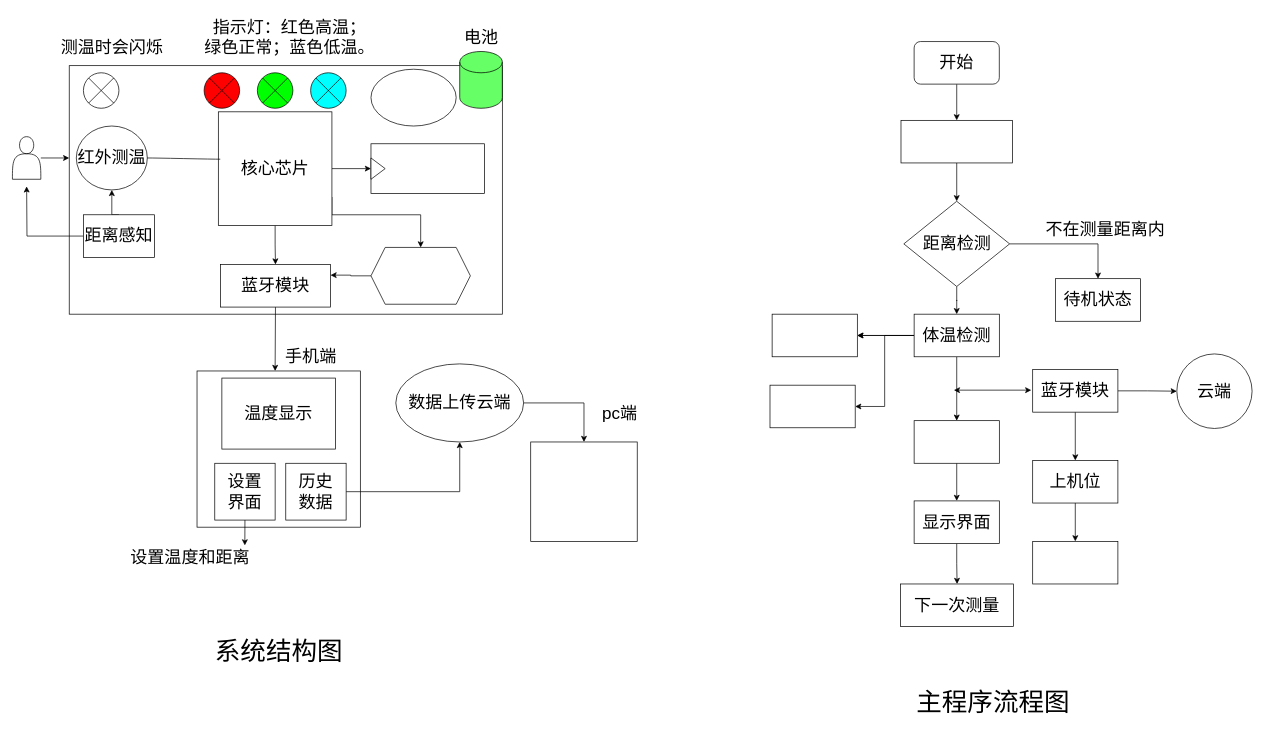
The diagram is 1265 pixels wide and 733 high, and some of its shapes have lost their labels. The shapes that lost their labels are listed below. From the top down, each one's box as (x1, y1, x2, y2) in pixels, then its label:
(370, 69, 456, 126): 仪器开关
(900, 120, 1012, 163): 系统初始化
(370, 143, 485, 193): 语音提示
(370, 247, 470, 304): 存储芯片
(771, 313, 857, 357): 指示灯
(769, 384, 855, 428): 语音播报
(913, 420, 999, 463): 数据存储
(530, 441, 637, 541): 与pc端 共享数据
(1032, 541, 1118, 584): 交互按钮
